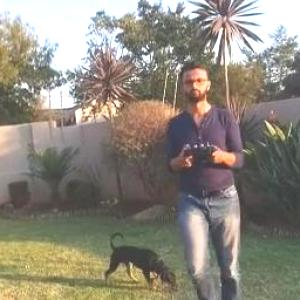follow: (164, 57, 248, 299)
null: (103, 227, 182, 292)
